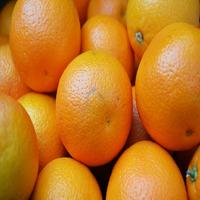orange: (60, 51, 142, 160), (4, 1, 86, 92), (143, 26, 200, 147), (11, 90, 70, 177), (110, 136, 187, 200), (82, 16, 138, 86), (37, 155, 106, 200)
